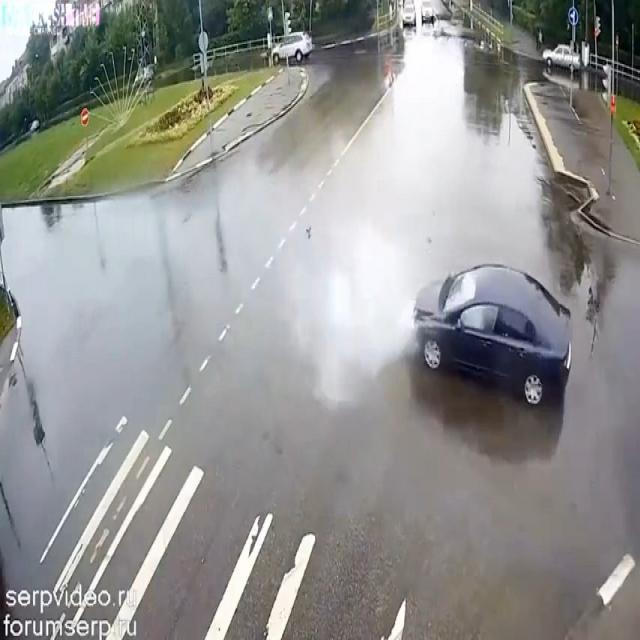Accident: (391, 217, 601, 448)
